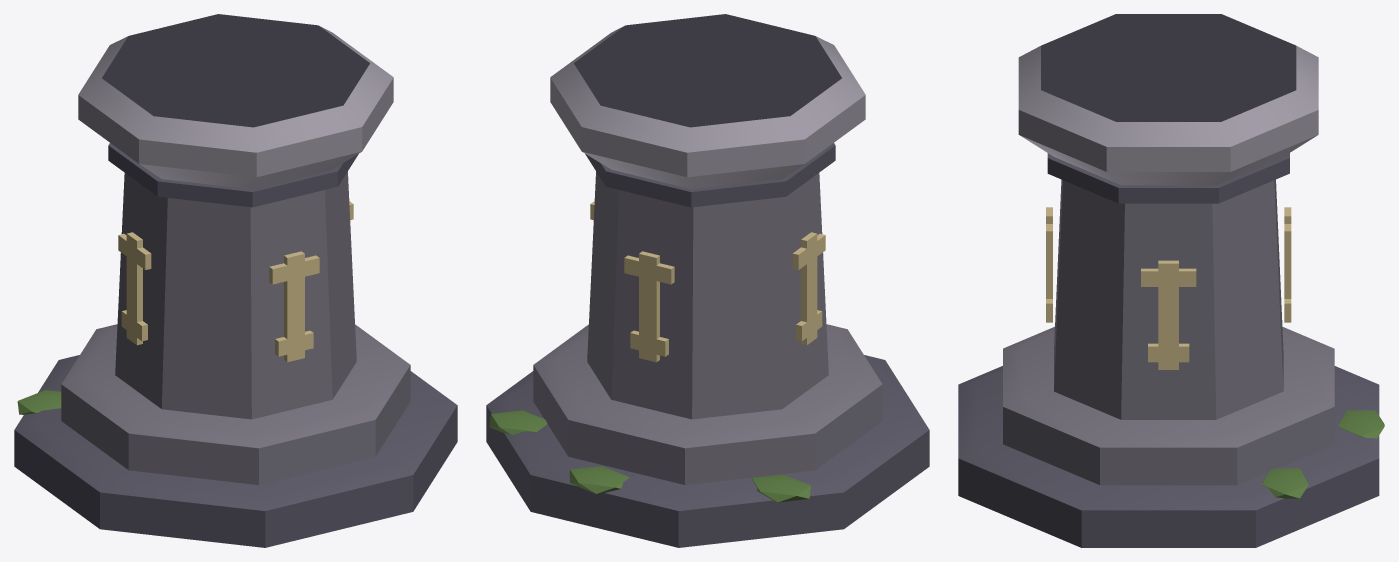
Rendered from shrine_pedestal.fbx.
3 views of the same model, side by side, from view 1: azimuth 30°, elevation 25°; view 2: azimuth 150°, elevation 25°; view 3: azimuth 270°, elevation 25° (orthographic).
Visible parts, largest first — view 1: shrine_pedestal; view 2: shrine_pedestal; view 3: shrine_pedestal.
Boxes of the visible parts, x1,y1,x2,y2 form: shrine_pedestal: (14,14,457,547); shrine_pedestal: (486,14,929,547); shrine_pedestal: (958,14,1384,547).
Size of the model in its own units: 1.22 by 1.25 by 1.24.
